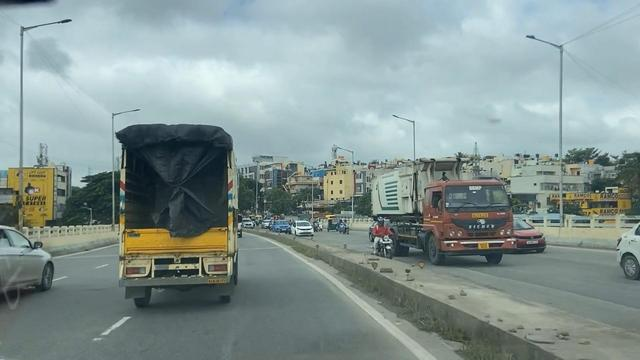HMV: (120, 107, 245, 313), (366, 158, 521, 265)
